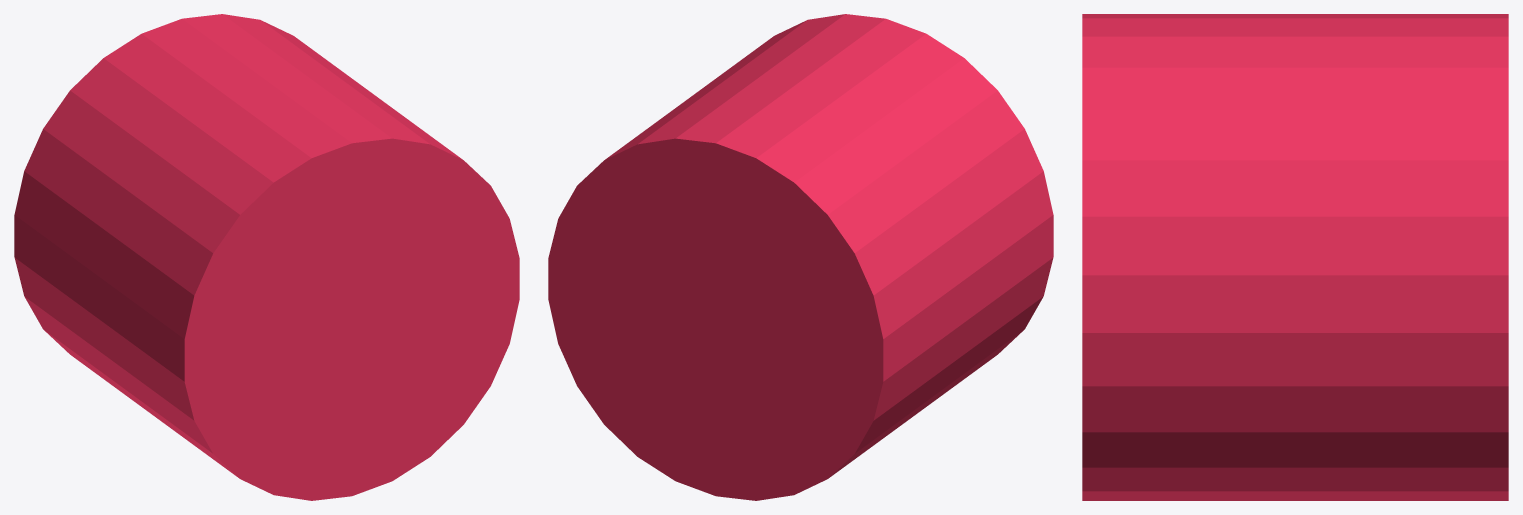
File: center.fbx
3 views of the same model, side by side, from view 1: azimuth 30°, elevation 25°; view 2: azimuth 150°, elevation 25°; view 3: azimuth 270°, elevation 25° (orthographic). The views are drawn at different scales.
Visible parts, largest first — view 1: center; view 2: center; view 3: center.
Part boxes in pixels (x1,y1,x2,y2): center: [14, 14, 519, 500]; center: [548, 14, 1053, 500]; center: [1082, 14, 1508, 500].
Size of the model in its own units: 14.2 by 14.31 by 12.5.
Materials: 1 (1 with a texture image).
